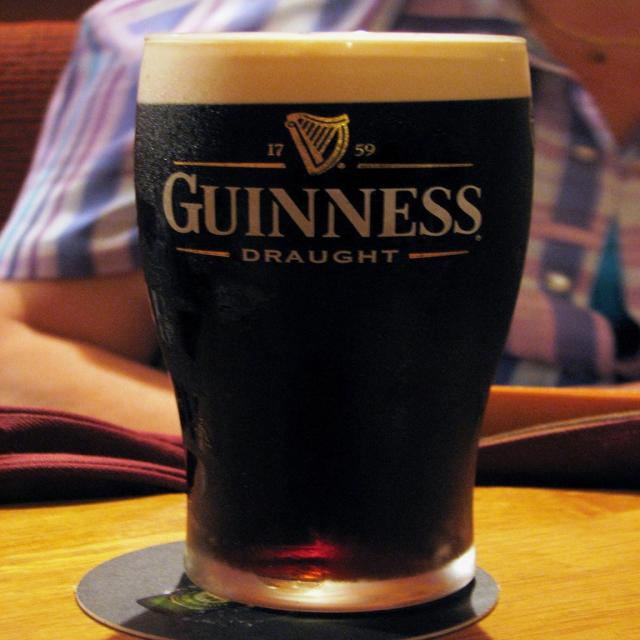guiness: (159, 112, 491, 242)
